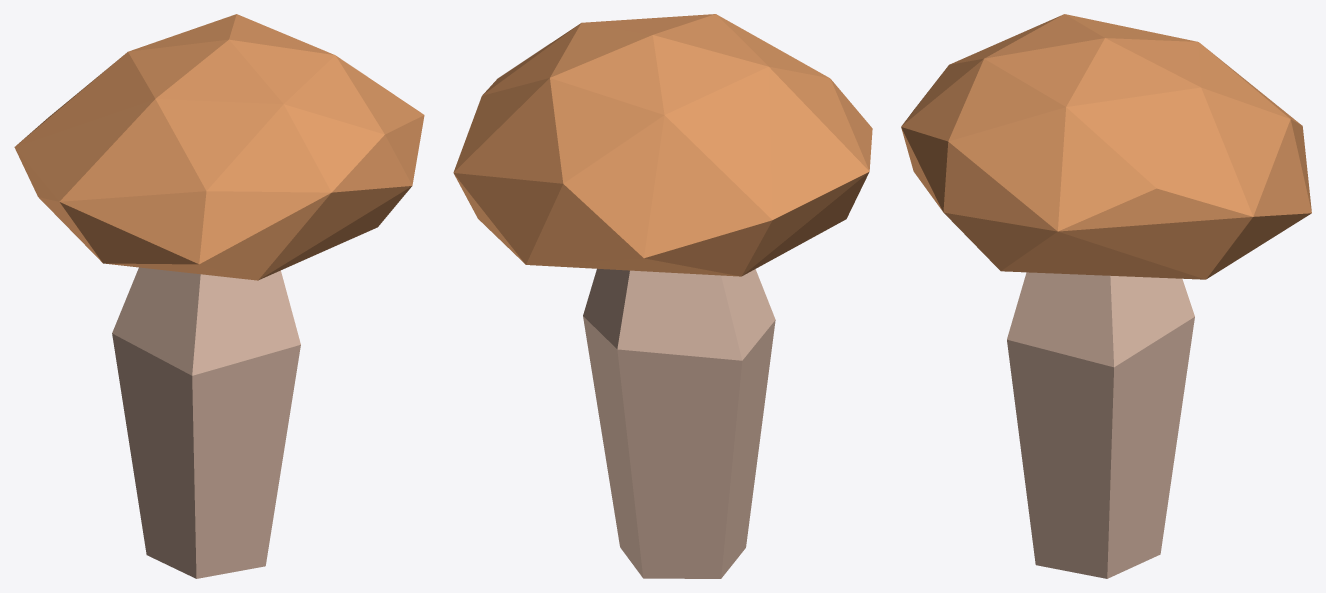
File: Mushroom_f_02.fbx
The picture shows the model from 3 angles, left to right: view 1: azimuth 30°, elevation 25°; view 2: azimuth 150°, elevation 25°; view 3: azimuth 270°, elevation 25°; orthographic projection. The views are drawn at different scales.
Parts seen in each view (by area): view 1: Mushroom_f_02; view 2: Mushroom_f_02; view 3: Mushroom_f_02.
Boxes of the visible parts, bbox=[...] form: Mushroom_f_02: bbox=[14, 14, 424, 578]; Mushroom_f_02: bbox=[453, 14, 872, 578]; Mushroom_f_02: bbox=[901, 14, 1311, 578].
Size of the model in its own units: 0.2412 by 0.3197 by 0.2266.
